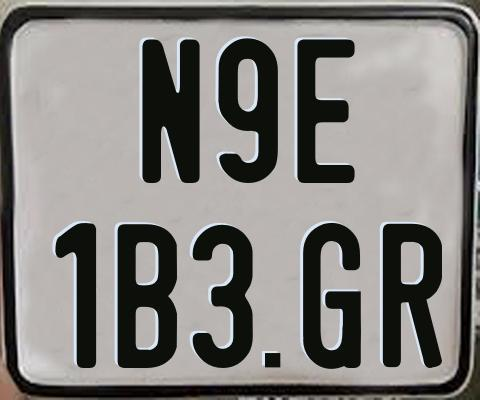1: (52, 220, 98, 370)
3: (193, 224, 255, 367)
9: (216, 37, 280, 187)
B: (115, 223, 176, 372)
E: (294, 38, 357, 186)
G: (303, 223, 362, 371)
N: (140, 37, 198, 186)
R: (383, 223, 444, 369)
